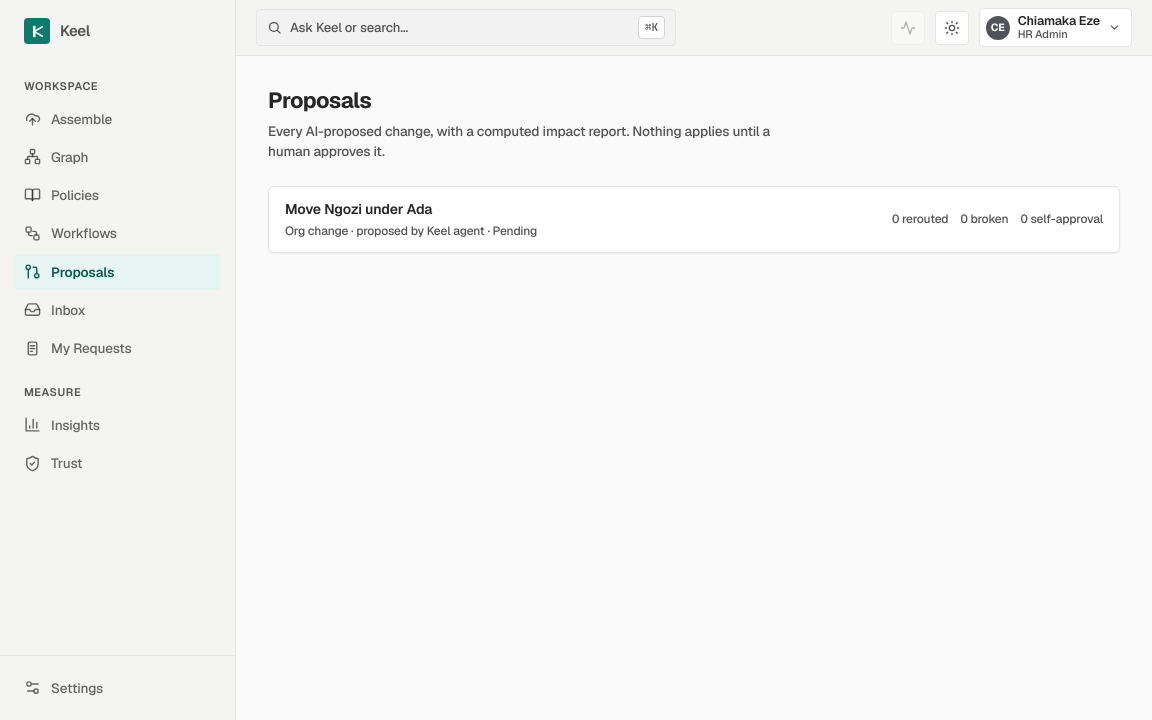
/proposals live updates › fills the explanation in when the API finishes writing it, without a reload
The width and height of the screenshot is (1152, 720).
Click the button "Move Ngozi under Ada": (359, 208) [269,186,1119,252]
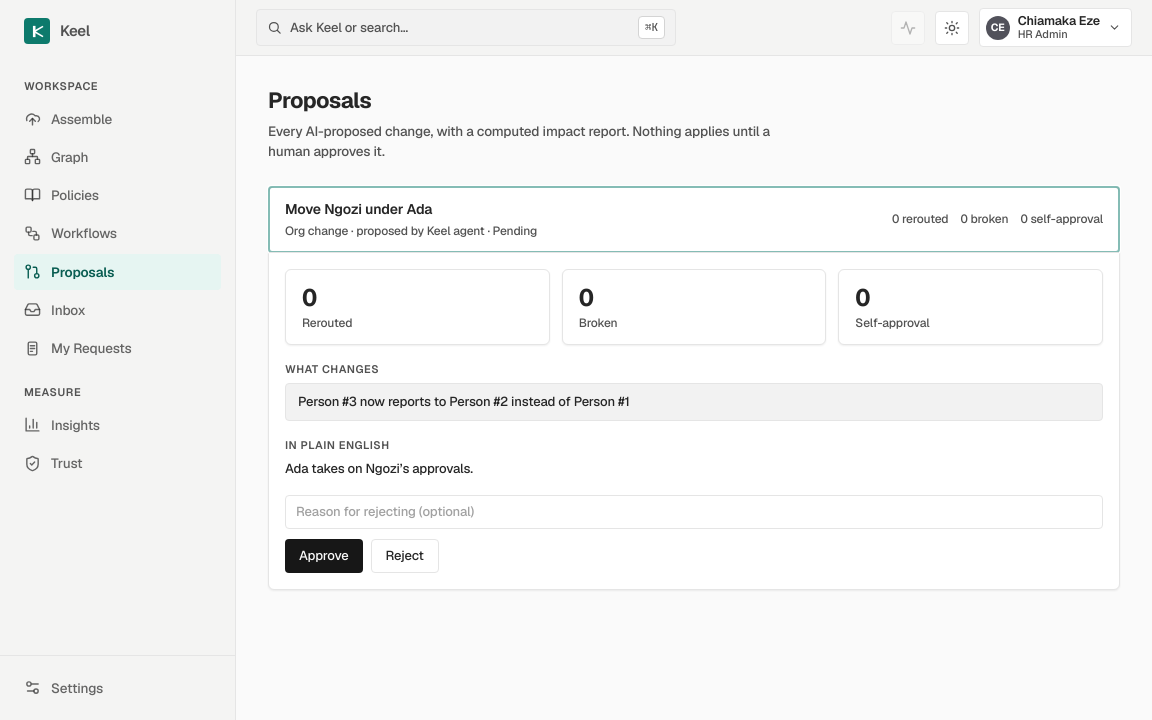
Expected: the text "Ada takes on Ngozi’s approvals." is shown, [285,460,473,477]
